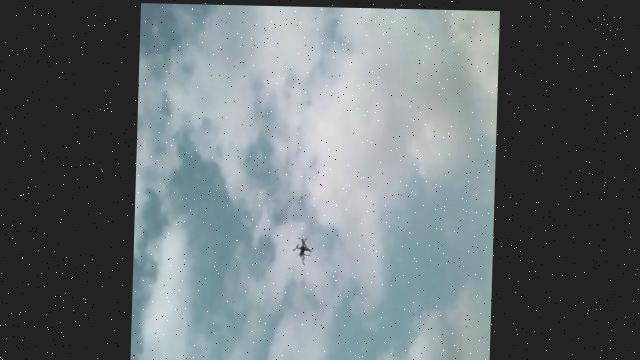drone: (291, 233, 314, 266)
